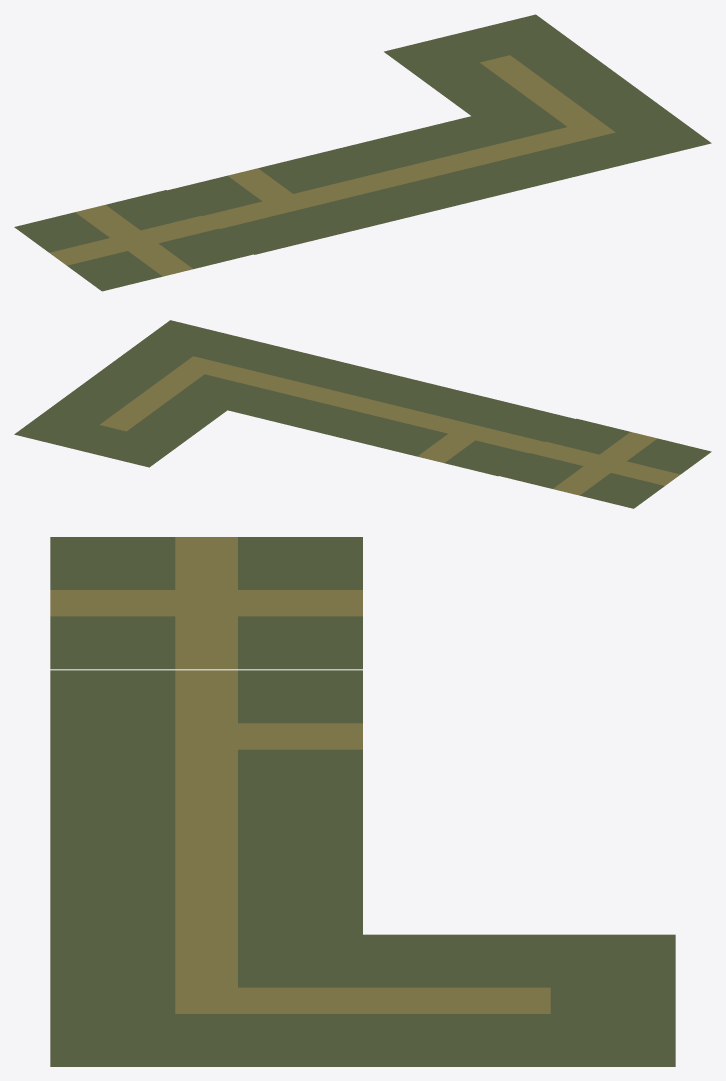
File: GameLevelTails.fbx
3 views of the same model, one above another, from view 1: azimuth 30°, elevation 25°; view 2: azimuth 150°, elevation 25°; view 3: azimuth 270°, elevation 25° (orthographic). The views are drawn at different scales.
Visible parts, largest first — view 1: Level-cross, Level-line, Level-end, Level-turn, Level-trues; view 2: Level-cross, Level-turn, Level-end, Level-line, Level-trues; view 3: Level-cross, Level-trues, Level-line, Level-turn, Level-end.
Part boxes in pixels (<box>): Level-cross: <box>14,190,253,291</box>; Level-line: <box>319,116,558,217</box>; Level-end: <box>384,14,623,115</box>; Level-turn: <box>472,79,711,180</box>; Level-trues: <box>167,153,406,254</box>; Level-cross: <box>498,418,711,508</box>; Level-turn: <box>92,320,305,410</box>; Level-end: <box>14,377,226,467</box>; Level-line: <box>228,353,440,443</box>; Level-trues: <box>363,386,575,476</box>; Level-cross: <box>50,537,362,669</box>; Level-trues: <box>50,670,362,802</box>; Level-line: <box>50,802,362,934</box>; Level-turn: <box>50,934,362,1066</box>; Level-end: <box>363,934,675,1066</box>.
Size of the model in its own units: 4000 by 4.21 by 2000.
